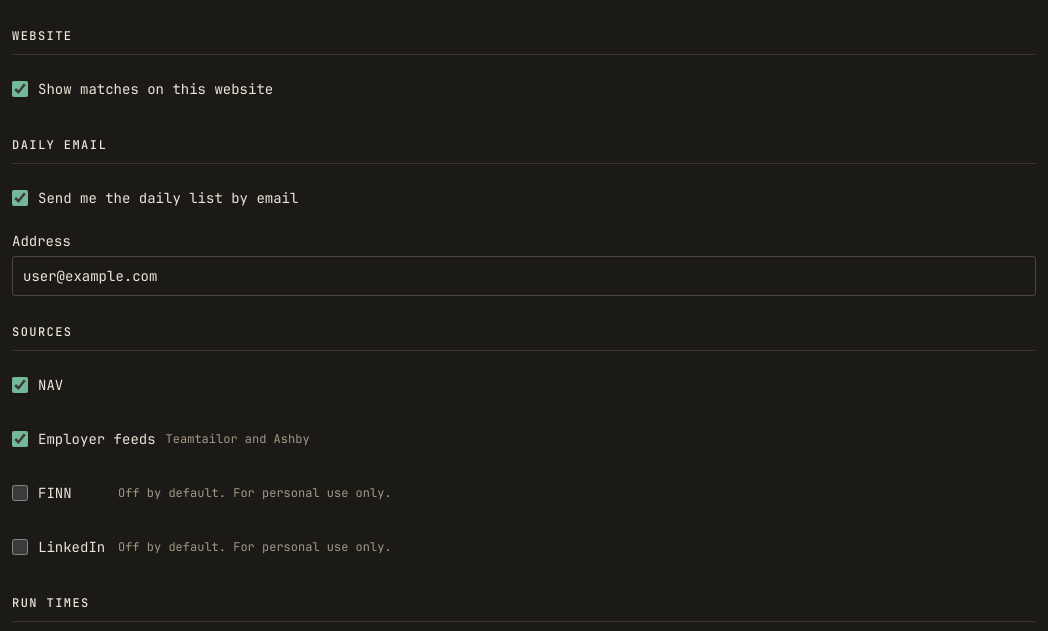
Test: DeliverySettings › should turn off the website after Turn off is confirmed
This screenshot has width=1048, height=631.
Click the checkbox labelled "Show matches on this website". click: {"x": 20, "y": 89}
box: [12,81,28,97]
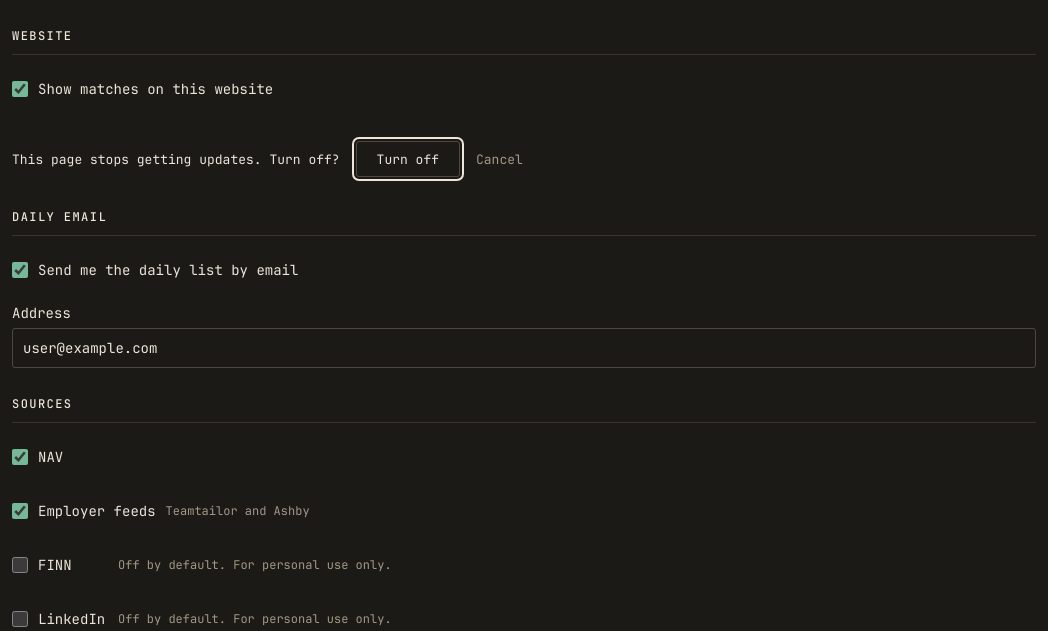
Check: the text "This page stops getting updates. Turn off?" is shown, box [12,150,340,168]
Click the button "Turn off". click: {"x": 408, "y": 159}
box: [356,141,460,177]
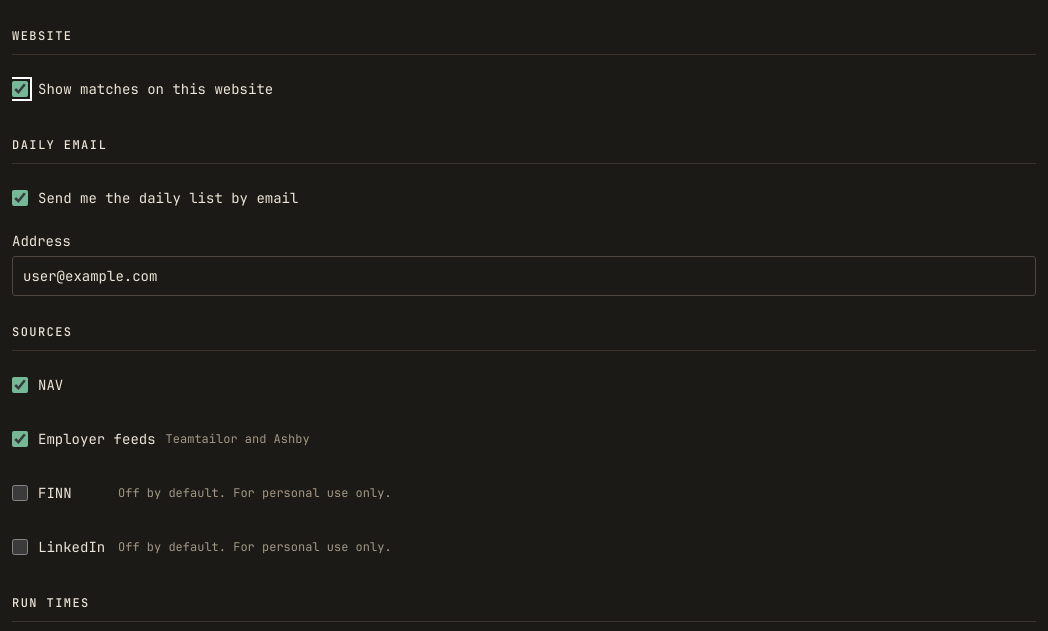
Check: the text "This page stops getting updates. Turn off?" is gone
